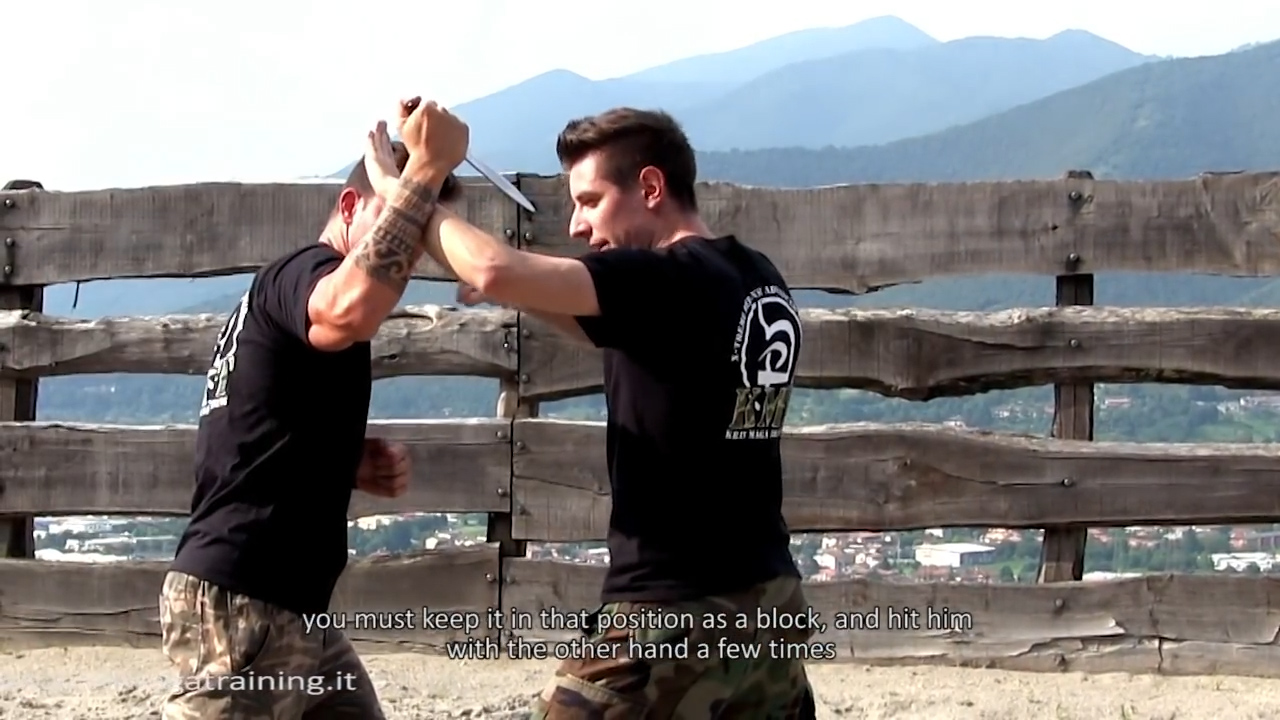knife: (393, 88, 543, 223)
